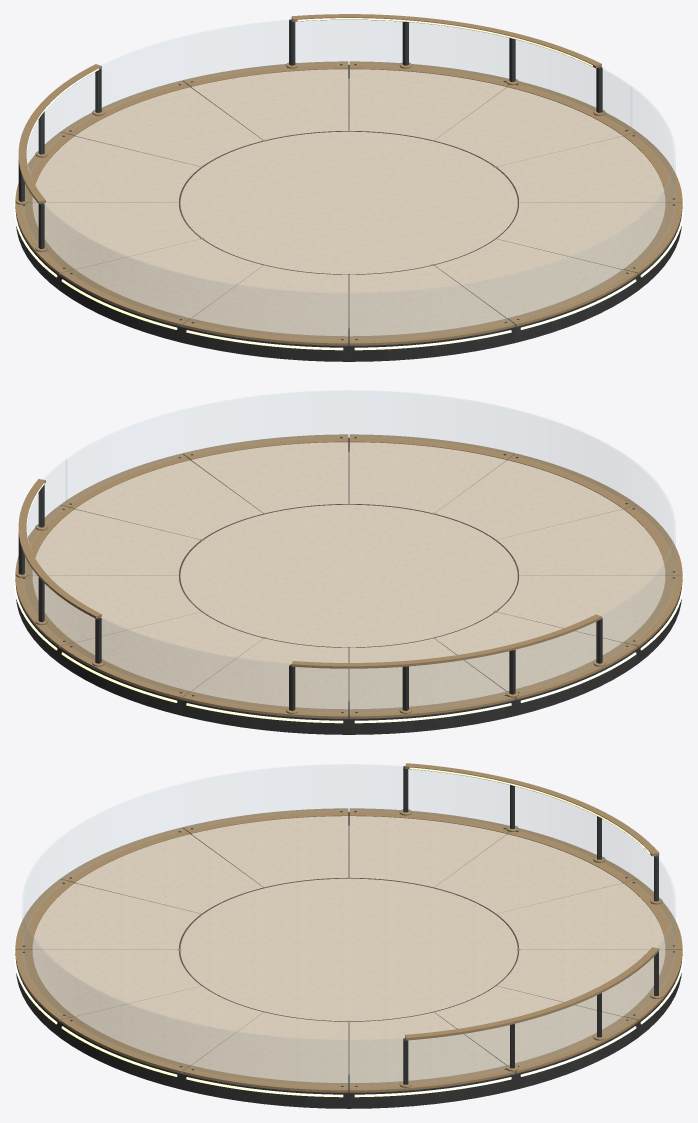
File: cloud-disk.glb
The picture shows the model from 3 angles, top to bottom: view 1: azimuth 30°, elevation 25°; view 2: azimuth 150°, elevation 25°; view 3: azimuth 270°, elevation 25°; orthographic projection.
Parts seen in each view (by area): view 1: cloud-disk / Cloud / ivory ceramic, cloud-disk / Cloud / clear guard glazing, cloud-disk / Cloud / satin champagne edge, cloud-disk / Cloud / graphite rim, cloud-disk / Cloud / opal amber diffuser, cloud-disk / Cloud / recessed expansion joints; view 2: cloud-disk / Cloud / ivory ceramic, cloud-disk / Cloud / clear guard glazing, cloud-disk / Cloud / satin champagne edge, cloud-disk / Cloud / graphite rim, cloud-disk / Cloud / opal amber diffuser, cloud-disk / Cloud / recessed expansion joints; view 3: cloud-disk / Cloud / ivory ceramic, cloud-disk / Cloud / clear guard glazing, cloud-disk / Cloud / satin champagne edge, cloud-disk / Cloud / graphite rim, cloud-disk / Cloud / opal amber diffuser, cloud-disk / Cloud / recessed expansion joints.
Boxes of the visible parts, bbox=[...] form: cloud-disk / Cloud / ivory ceramic: bbox=[32, 69, 665, 336]; cloud-disk / Cloud / clear guard glazing: bbox=[23, 20, 675, 339]; cloud-disk / Cloud / satin champagne edge: bbox=[15, 14, 682, 345]; cloud-disk / Cloud / graphite rim: bbox=[16, 19, 681, 361]; cloud-disk / Cloud / opal amber diffuser: bbox=[14, 18, 683, 350]; cloud-disk / Cloud / recessed expansion joints: bbox=[179, 131, 518, 275]; cloud-disk / Cloud / ivory ceramic: bbox=[32, 442, 665, 709]; cloud-disk / Cloud / clear guard glazing: bbox=[23, 390, 675, 712]; cloud-disk / Cloud / satin champagne edge: bbox=[15, 434, 682, 718]; cloud-disk / Cloud / graphite rim: bbox=[16, 437, 681, 734]; cloud-disk / Cloud / opal amber diffuser: bbox=[14, 483, 683, 723]; cloud-disk / Cloud / recessed expansion joints: bbox=[179, 504, 518, 648]; cloud-disk / Cloud / ivory ceramic: bbox=[32, 816, 665, 1082]; cloud-disk / Cloud / clear guard glazing: bbox=[22, 764, 675, 1086]; cloud-disk / Cloud / satin champagne edge: bbox=[15, 763, 682, 1092]; cloud-disk / Cloud / graphite rim: bbox=[16, 766, 681, 1108]; cloud-disk / Cloud / opal amber diffuser: bbox=[14, 767, 683, 1097]; cloud-disk / Cloud / recessed expansion joints: bbox=[179, 878, 518, 1022].
Bounding box in the file's own units: 30.36 × 3.76 × 30.36.
6 materials, 2 textured.
